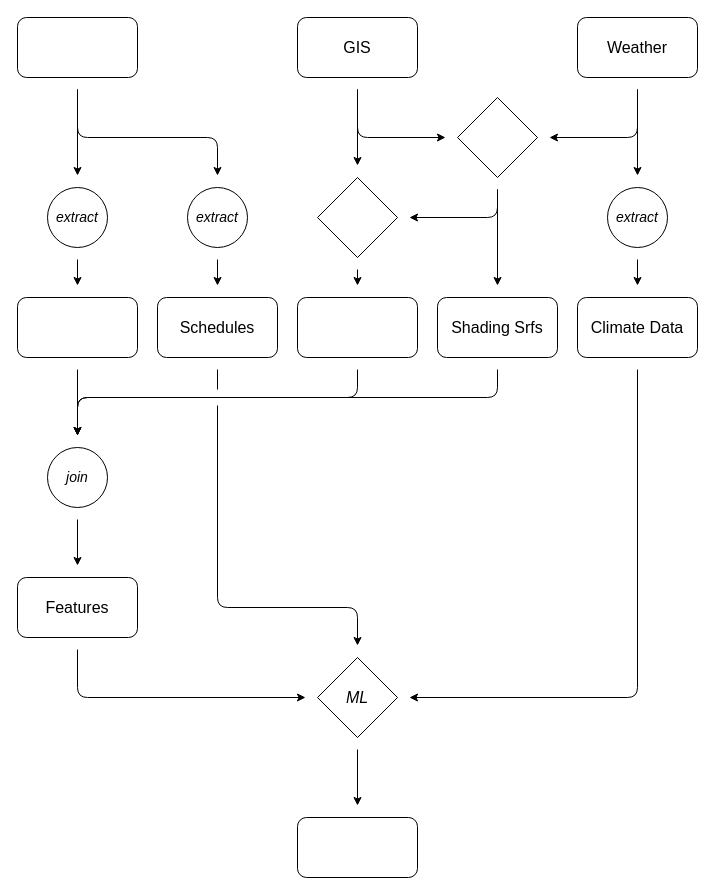
This 715x895 diagram has some shape labels left out. Each missing label, with the centre of its shape:
"cluster" goes at point 357,217.
"Non-Geo Data" goes at point 77,327.
"Results" goes at point 357,847.
"RTX" goes at point 497,137.
"Shoeboxes" goes at point 357,327.
"Templates" goes at point 77,47.
